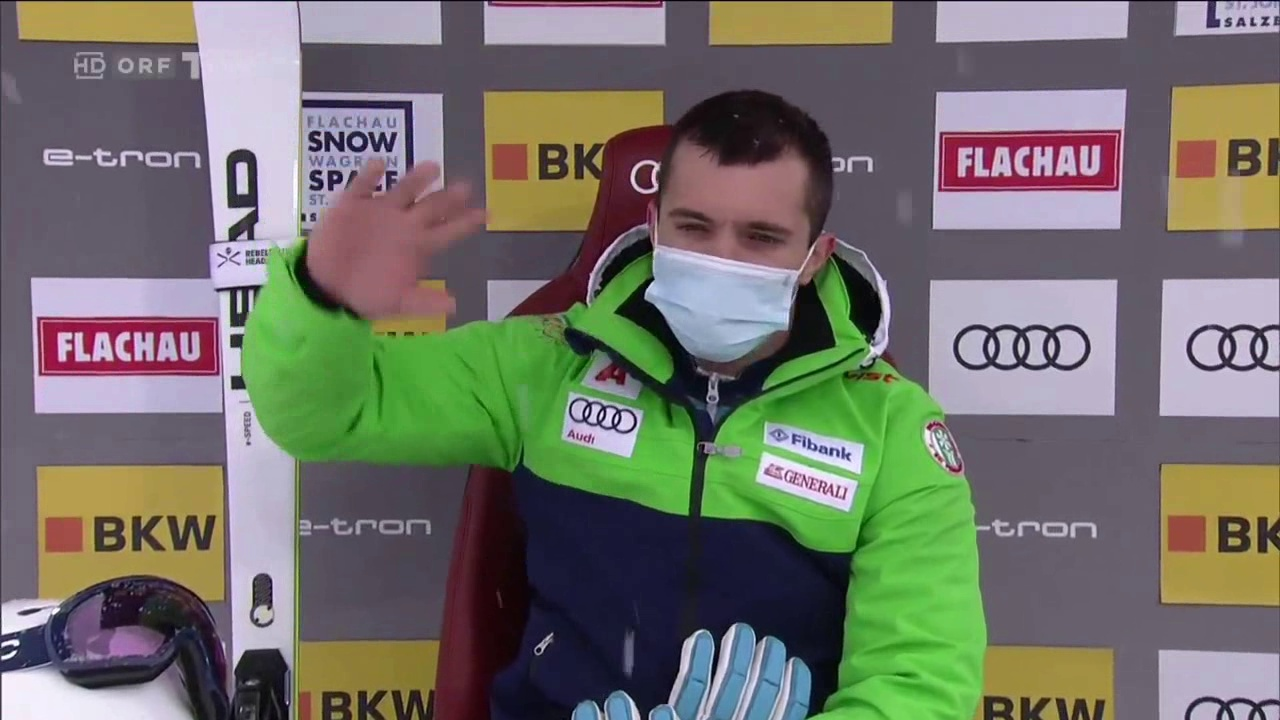BKW: (36, 481, 224, 568), (487, 113, 655, 206), (1166, 103, 1279, 206)
audi: (952, 323, 1093, 379), (1187, 321, 1279, 381), (566, 397, 643, 443), (1181, 693, 1279, 719)
etron: (944, 511, 1108, 545), (293, 511, 444, 544)
flachau: (35, 317, 223, 378), (936, 133, 1115, 194)
